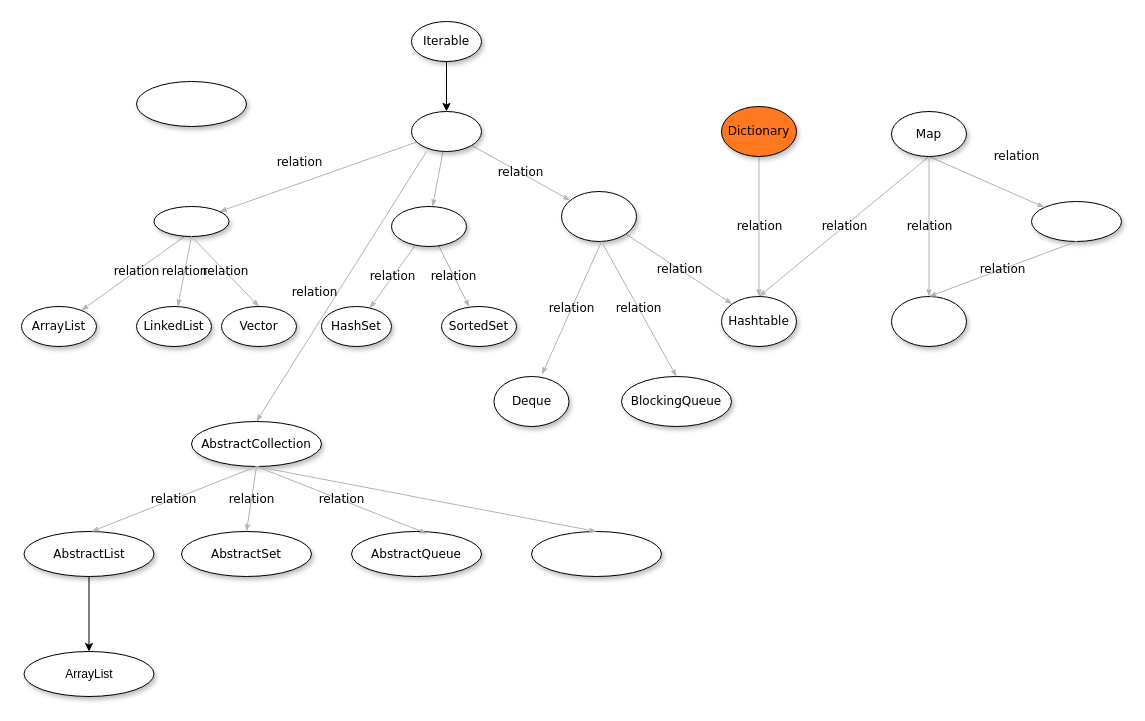
The diagram is 1145 pixels wide and 721 high, and some of its shapes have lost their labels. Each missing label, with the centre of its shape:
AbstractMap: (1077,222)
ArrayDeque: (597,555)
Collection: (447,132)
HashMap: (929,323)
List: (192,223)
Queue: (599,217)
RandomAccess: (192,105)
Set: (429,228)
